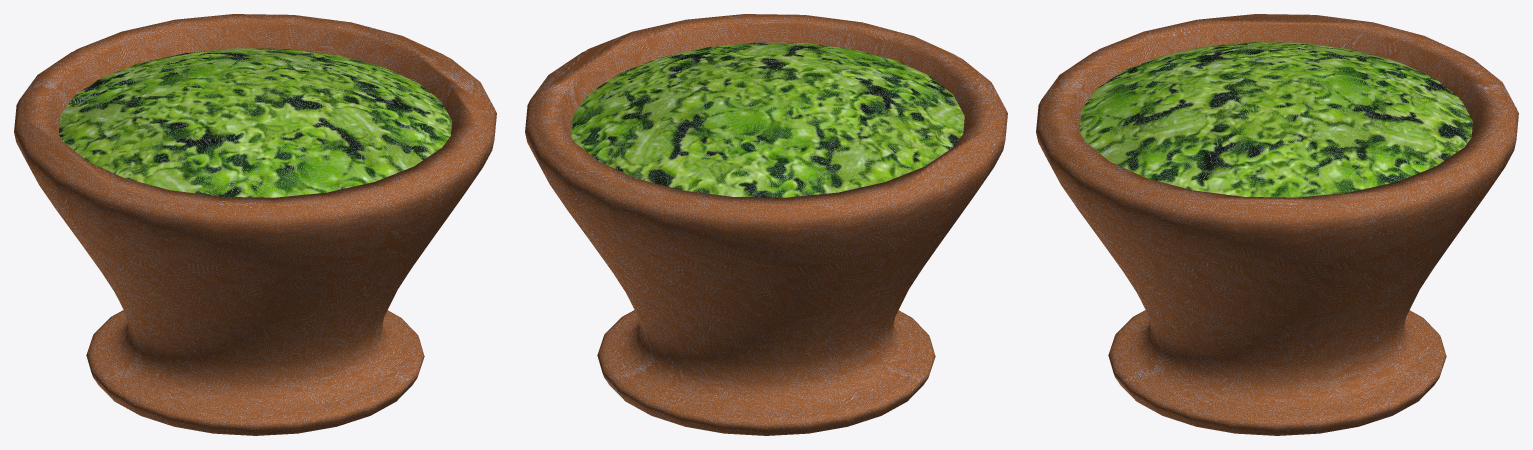
The model's file is ACC_FOOD_004.fbx.
The picture shows the model from 3 angles, left to right: view 1: azimuth 30°, elevation 25°; view 2: azimuth 150°, elevation 25°; view 3: azimuth 270°, elevation 25°; orthographic projection.
Visible parts, largest first — view 1: Group2, Group3; view 2: Group2, Group3; view 3: Group2, Group3.
Boxes of the visible parts, x1,y1,x2,y2 form: Group2: (14,14,496,435); Group3: (58,48,451,197); Group2: (525,14,1007,435); Group3: (571,42,964,197); Group2: (1036,14,1518,435); Group3: (1079,42,1472,197).
Size of the model in its own units: 9.65 by 6.21 by 9.65.
